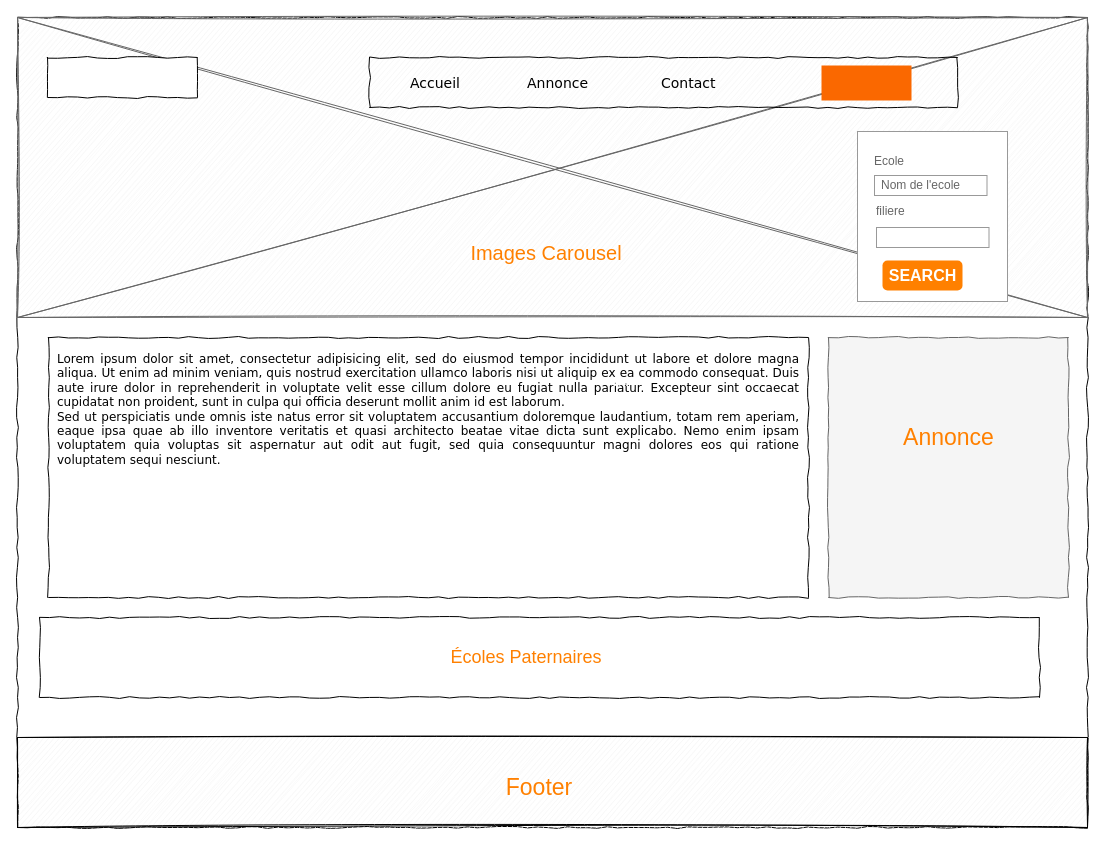
Image size: 1105x845. Some labels were removed from this diagram. Here are the shapes that lost their labels. From the top down, the centre of each, then its label:
pixel 122 77: LOGO
pixel 866 82: CONNECTER
